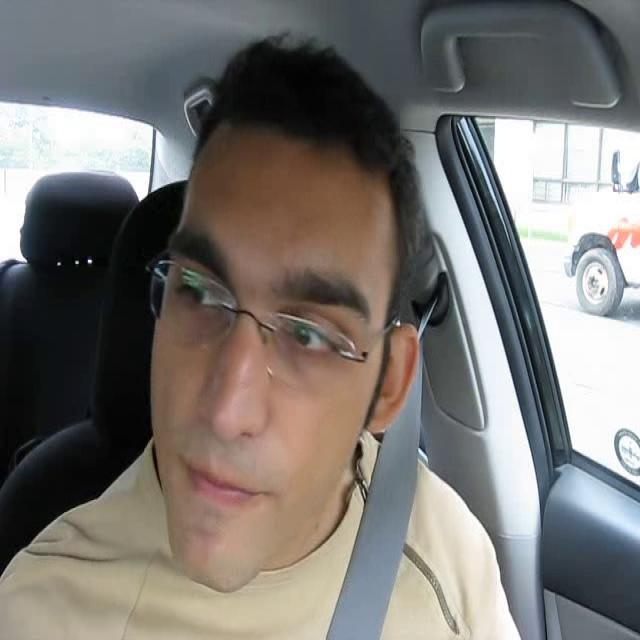close: (170, 461, 277, 510)
